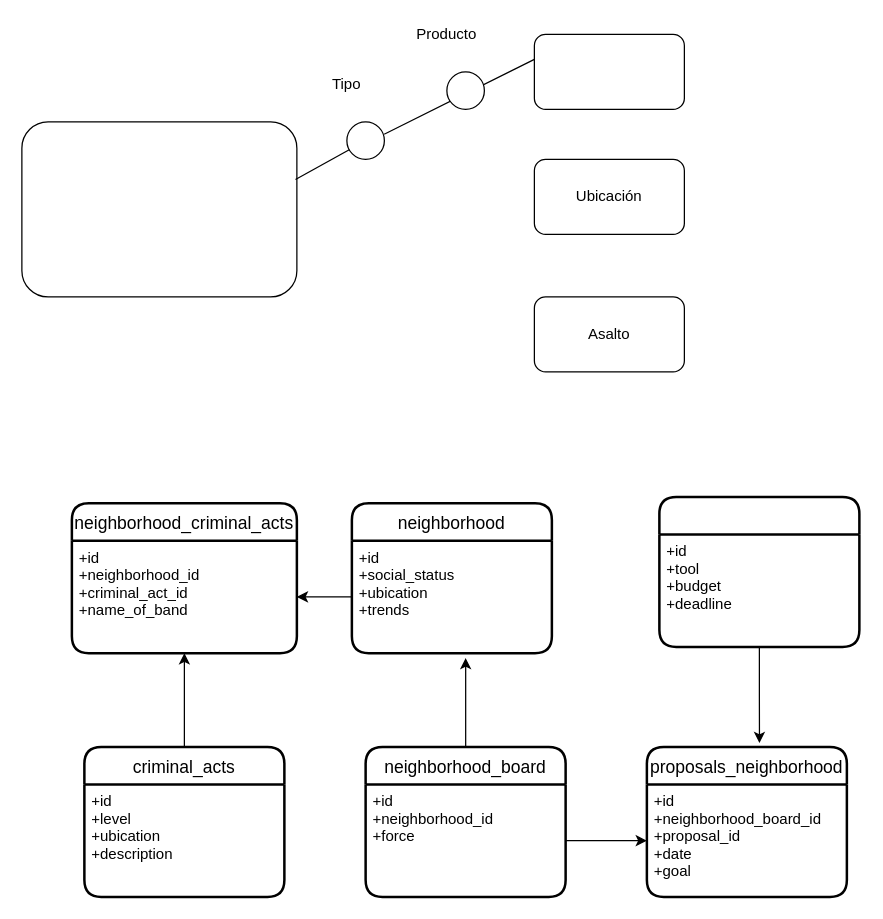
This 883x919 diagram has some shape labels left out. The shapes that lost their labels are listed below. From the top down, each one's box as (x1, y1, x2, y2) in pixels, then its label:
(533, 33, 684, 109): Barrio
(21, 121, 297, 297): - Monto - Cantidad de ventas
(658, 495, 860, 648): proposals
